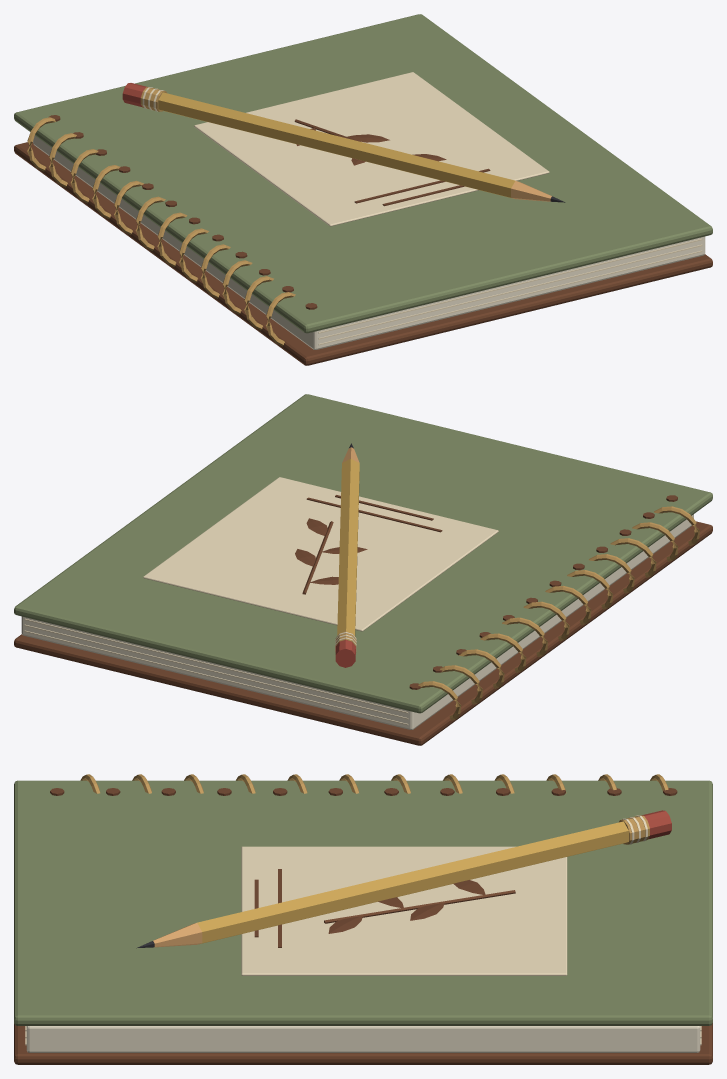
The model's file is 024_sketchbook_and_pencil_v01.glb.
3 views of the same model, one above another, from view 1: azimuth 30°, elevation 25°; view 2: azimuth 150°, elevation 25°; view 3: azimuth 270°, elevation 25° (orthographic). The views are drawn at different scales.
Visible parts, largest first — view 1: Sketchbook sage card cover, Sketchbook cream paper label, Sketchbook stiff back cover, Sketchbook drawing paper block, Hexagonal ochre pencil lacquer, Continuous twelve-turn spiral binding, Sketchbook visible paper strata.005, Sketchbook visible paper strata.001, Sketchbook visible paper strata.003; view 2: Sketchbook sage card cover, Sketchbook cream paper label, Sketchbook stiff back cover, Sketchbook drawing paper block, Continuous twelve-turn spiral binding, Hexagonal ochre pencil lacquer, Sketchbook visible paper strata.004, Sketchbook visible paper strata, Sketchbook visible paper strata.002; view 3: Sketchbook sage card cover, Sketchbook cream paper label, Sketchbook drawing paper block, Hexagonal ochre pencil lacquer, Sketchbook stiff back cover, Continuous twelve-turn spiral binding, Pencil exposed sharpened cedar, Cover botanical sketch stem, Pencil terracotta eraser.
Boxes of the visible parts, left/top/right/bottom form: Sketchbook sage card cover: left=14, top=14, right=712, bottom=333; Sketchbook cream paper label: left=194, top=72, right=549, bottom=226; Sketchbook stiff back cover: left=14, top=142, right=712, bottom=365; Sketchbook drawing paper block: left=33, top=136, right=705, bottom=349; Hexagonal ochre pencil lacquer: left=158, top=92, right=515, bottom=198; Continuous twelve-turn spiral binding: left=27, top=117, right=295, bottom=346; Sketchbook visible paper strata.005: left=318, top=238, right=702, bottom=333; Sketchbook visible paper strata.001: left=318, top=250, right=702, bottom=345; Sketchbook visible paper strata.003: left=318, top=244, right=702, bottom=339; Sketchbook sage card cover: left=14, top=394, right=712, bottom=713; Sketchbook cream paper label: left=143, top=477, right=498, bottom=631; Sketchbook stiff back cover: left=14, top=521, right=712, bottom=745; Sketchbook drawing paper block: left=21, top=514, right=693, bottom=729; Continuous twelve-turn spiral binding: left=418, top=506, right=699, bottom=720; Hexagonal ochre pencil lacquer: left=337, top=458, right=359, bottom=636; Sketchbook visible paper strata.004: left=24, top=618, right=408, bottom=713; Sketchbook visible paper strata: left=24, top=630, right=408, bottom=725; Sketchbook visible paper strata.002: left=24, top=624, right=408, bottom=719; Sketchbook sage card cover: left=14, top=780, right=712, bottom=1025; Sketchbook cream paper label: left=241, top=846, right=567, bottom=975; Sketchbook drawing paper block: left=26, top=1026, right=700, bottom=1052; Hexagonal ochre pencil lacquer: left=197, top=821, right=628, bottom=944; Sketchbook stiff back cover: left=14, top=1023, right=712, bottom=1064; Continuous twelve-turn spiral binding: left=80, top=774, right=668, bottom=793; Pencil exposed sharpened cedar: left=153, top=923, right=202, bottom=947; Cover botanical sketch stem: left=324, top=890, right=515, bottom=923; Pencil terracotta eraser: left=642, top=810, right=671, bottom=839.
Bounding box in the file's own units: 0.2986 × 0.0419 × 0.36.
